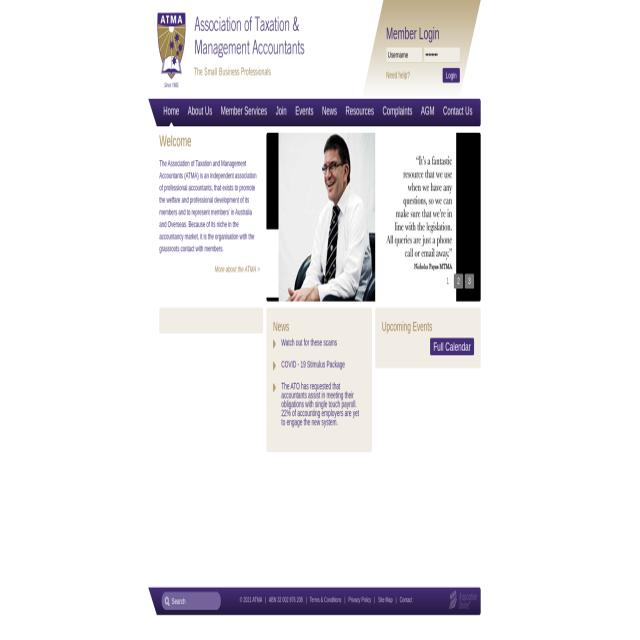button: (266, 133, 482, 302), (152, 0, 308, 96), (217, 99, 271, 126), (439, 99, 477, 126), (379, 99, 416, 126), (342, 99, 378, 126), (184, 99, 216, 126), (430, 338, 474, 355), (291, 99, 317, 126), (448, 589, 478, 611), (159, 99, 183, 126), (318, 99, 341, 126), (417, 99, 439, 126), (272, 99, 290, 126), (442, 68, 460, 82)
field: (162, 591, 220, 610), (386, 47, 422, 63), (424, 47, 460, 63)
